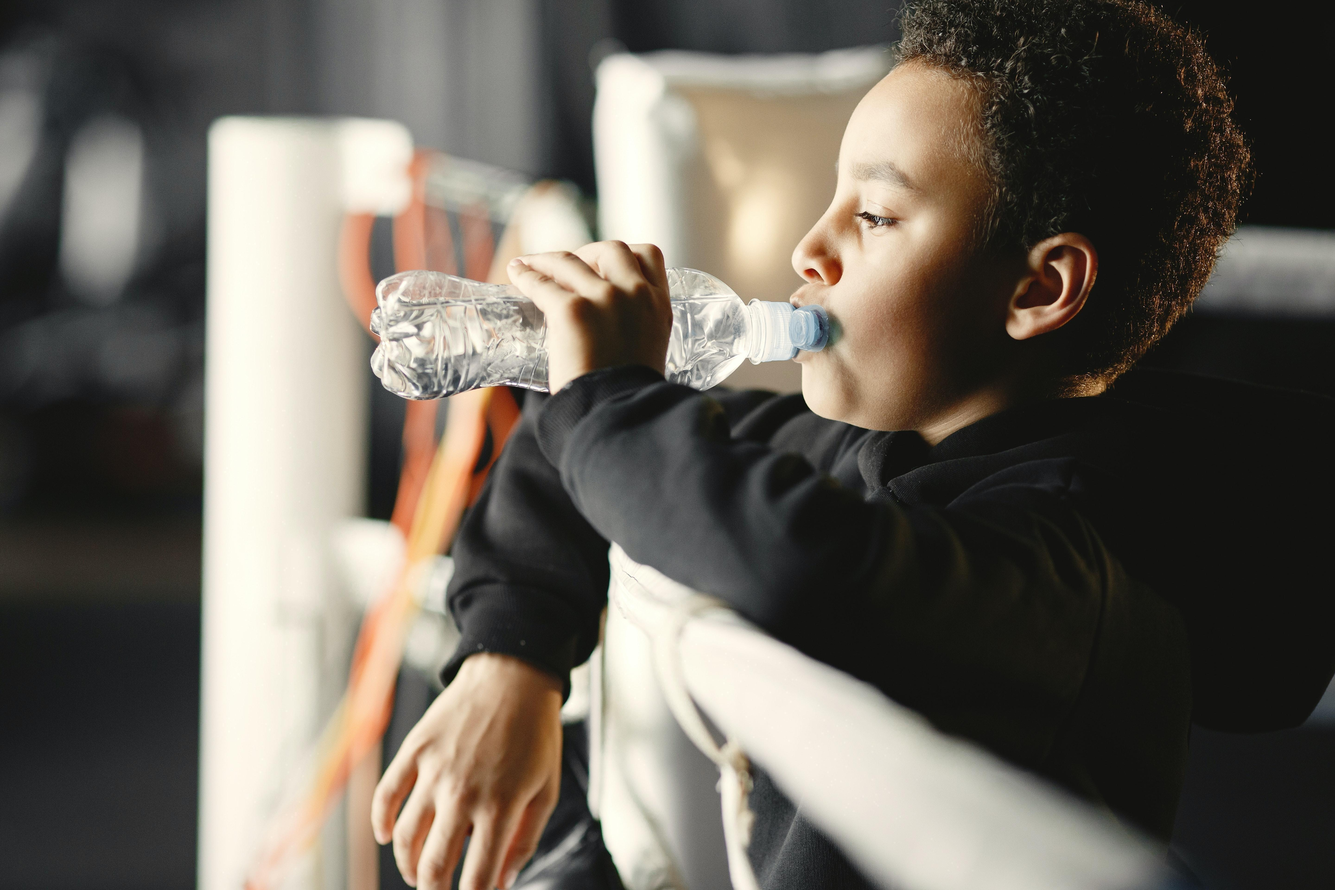bottle-plastic: (361, 258, 823, 409)
